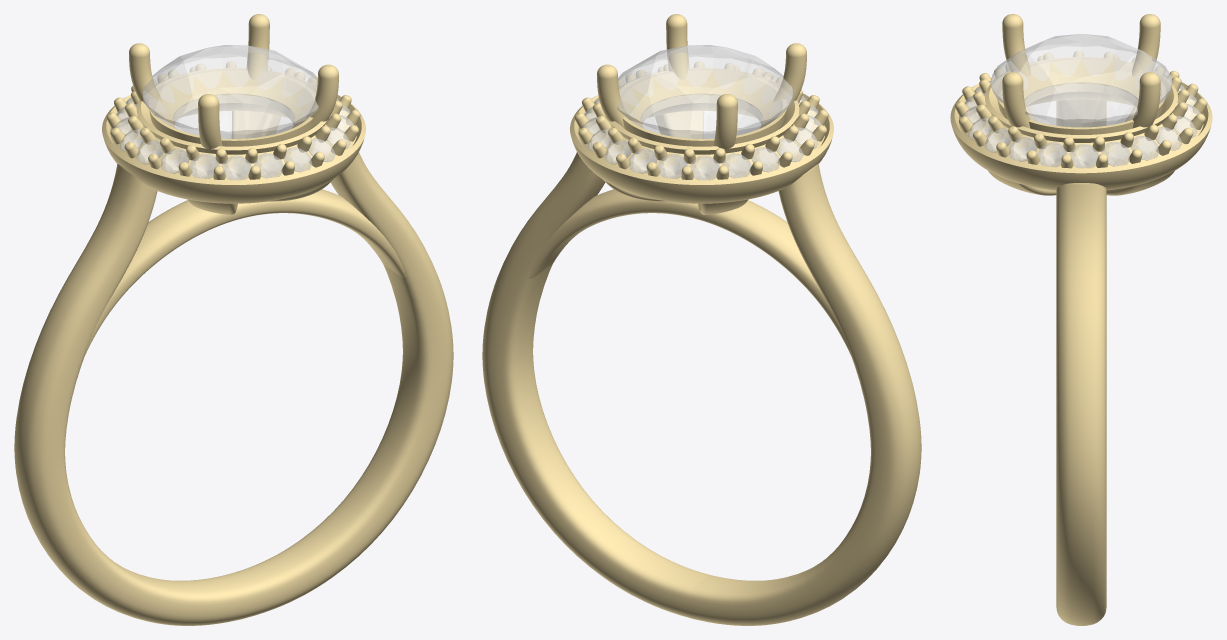
3 views of the same model, side by side, from view 1: azimuth 30°, elevation 25°; view 2: azimuth 150°, elevation 25°; view 3: azimuth 270°, elevation 25° (orthographic).
Parts seen in each view (by area): view 1: NNObj_27, NNObj_33, NNObj_0, NNObj_26, NNObj_32, NNObj_24, NNObj_25, NNObj_23, NNObj_28, NNObj_22; view 2: NNObj_27, NNObj_33, NNObj_0, NNObj_26, NNObj_32, NNObj_23, NNObj_22, NNObj_24, NNObj_31, NNObj_25; view 3: NNObj_27, NNObj_33, NNObj_0, NNObj_32, NNObj_22, NNObj_25, NNObj_24, NNObj_23, NNObj_1, NNObj_21, NNObj_2, NNObj_20 (+5 smaller).
Part boxes in pixels (bbox=[...]): NNObj_27: bbox=[14, 152, 453, 625]; NNObj_33: bbox=[102, 68, 365, 203]; NNObj_0: bbox=[142, 45, 318, 138]; NNObj_26: bbox=[84, 189, 406, 356]; NNObj_32: bbox=[149, 69, 315, 146]; NNObj_24: bbox=[246, 14, 269, 79]; NNObj_25: bbox=[129, 43, 162, 106]; NNObj_23: bbox=[305, 64, 338, 128]; NNObj_28: bbox=[232, 111, 280, 138]; NNObj_22: bbox=[198, 94, 222, 148]; NNObj_27: bbox=[482, 152, 921, 625]; NNObj_33: bbox=[570, 68, 833, 203]; NNObj_0: bbox=[617, 45, 793, 138]; NNObj_26: bbox=[529, 189, 851, 356]; NNObj_32: bbox=[620, 69, 786, 146]; NNObj_23: bbox=[666, 14, 689, 79]; NNObj_22: bbox=[773, 43, 806, 106]; NNObj_24: bbox=[597, 64, 630, 128]; NNObj_31: bbox=[655, 111, 703, 138]; NNObj_25: bbox=[713, 94, 737, 148]; NNObj_27: bbox=[1056, 99, 1106, 625]; NNObj_33: bbox=[950, 57, 1212, 190]; NNObj_0: bbox=[990, 34, 1172, 127]; NNObj_32: bbox=[997, 58, 1165, 134]; NNObj_22: bbox=[1002, 14, 1030, 76]; NNObj_25: bbox=[1132, 14, 1160, 76]; NNObj_24: bbox=[1132, 72, 1160, 128]; NNObj_23: bbox=[1002, 72, 1030, 128]; NNObj_1: bbox=[1069, 144, 1098, 168]; NNObj_21: bbox=[1037, 142, 1066, 167]; NNObj_2: bbox=[1101, 142, 1130, 166]; NNObj_20: bbox=[1009, 137, 1036, 161].
Size of the model in its own units: 0.0212 by 0.0264 by 0.0113.
